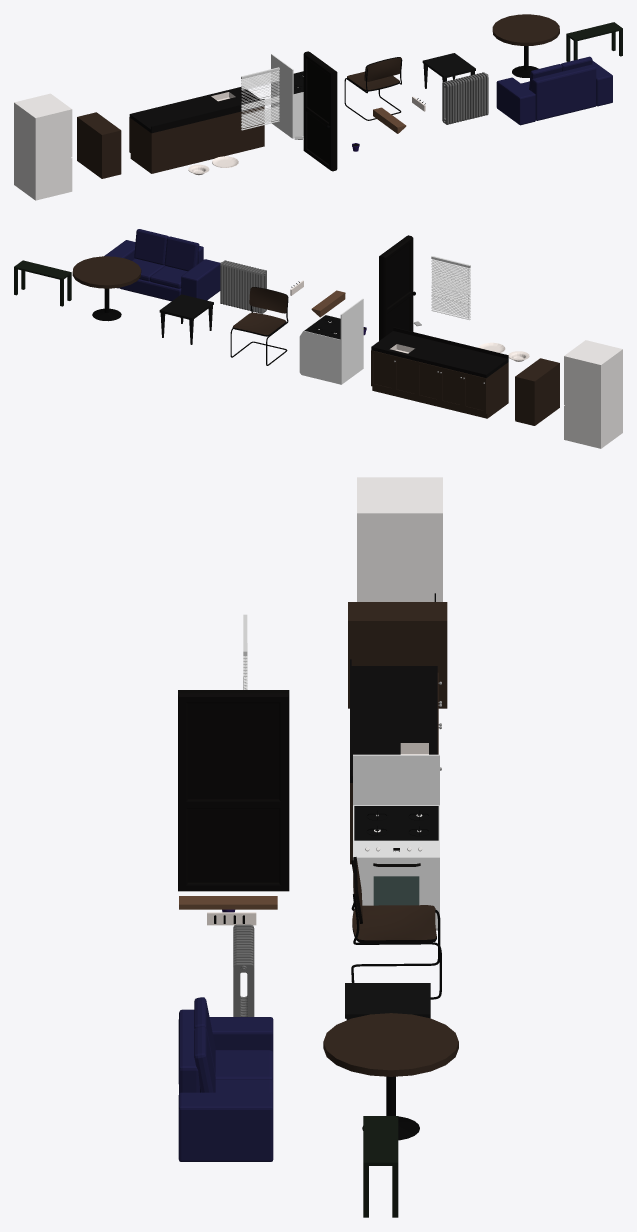
Rendered from furniture.fbx.
3 renders of one model, top to bottom at view 1: azimuth 30°, elevation 25°; view 2: azimuth 150°, elevation 25°; view 3: azimuth 270°, elevation 25°, orthographic. The views are drawn at different scales.
Visible parts, largest first — view 1: Box056, Box057, Box142, Box098, Box059, Cylinder195, Box058, Box101, Box096, Box120, Box064, Box097 (+5 smaller); view 2: Box056, Box057, Box058, Box142, Box059, Cylinder195, Box101, Box096, Box120, Box103, Box100, Box063 (+6 smaller); view 3: Box142, Box058, Box057, Box056, Cylinder195, Box059, Box097, Box063, Box096, Box120, Box101, Box102 (+4 smaller).
Part boxes in pixels (box(x1,y1,x2,y2)): Box056: box(129, 87, 264, 173); Box057: box(14, 93, 72, 200); Box142: box(303, 51, 337, 171); Box098: box(532, 64, 596, 120); Box059: box(77, 112, 121, 178); Cylinder195: box(492, 14, 559, 77); Box058: box(271, 54, 303, 138); Box101: box(496, 77, 535, 125); Box096: box(422, 53, 475, 88); Box120: box(566, 22, 622, 61); Box064: box(364, 57, 401, 81); Box097: box(592, 61, 612, 106); Box056: box(371, 327, 508, 418); Box057: box(564, 340, 622, 448); Box058: box(299, 298, 363, 384); Box142: box(379, 235, 413, 340); Box059: box(515, 358, 559, 425); Cylinder195: box(72, 256, 141, 321); Box101: box(181, 259, 220, 300); Box096: box(159, 294, 213, 344); Box120: box(14, 260, 71, 306); Box103: box(164, 236, 199, 271); Box100: box(134, 229, 168, 265); Box063: box(232, 312, 286, 336); Box142: box(178, 690, 289, 891); Box058: box(353, 754, 439, 930); Box057: box(357, 477, 442, 601); Box056: box(350, 659, 438, 864); Cylinder195: box(323, 1013, 458, 1140); Box059: box(348, 602, 447, 708); Box097: box(178, 1092, 273, 1161); Box063: box(352, 905, 436, 943); Box096: box(345, 983, 430, 1019); Box120: box(363, 1116, 398, 1217); Box101: box(178, 1017, 273, 1083); Box102: box(215, 1050, 273, 1081).
Bounding box in the file's own units: 221 × 36.29 × 45.59.
